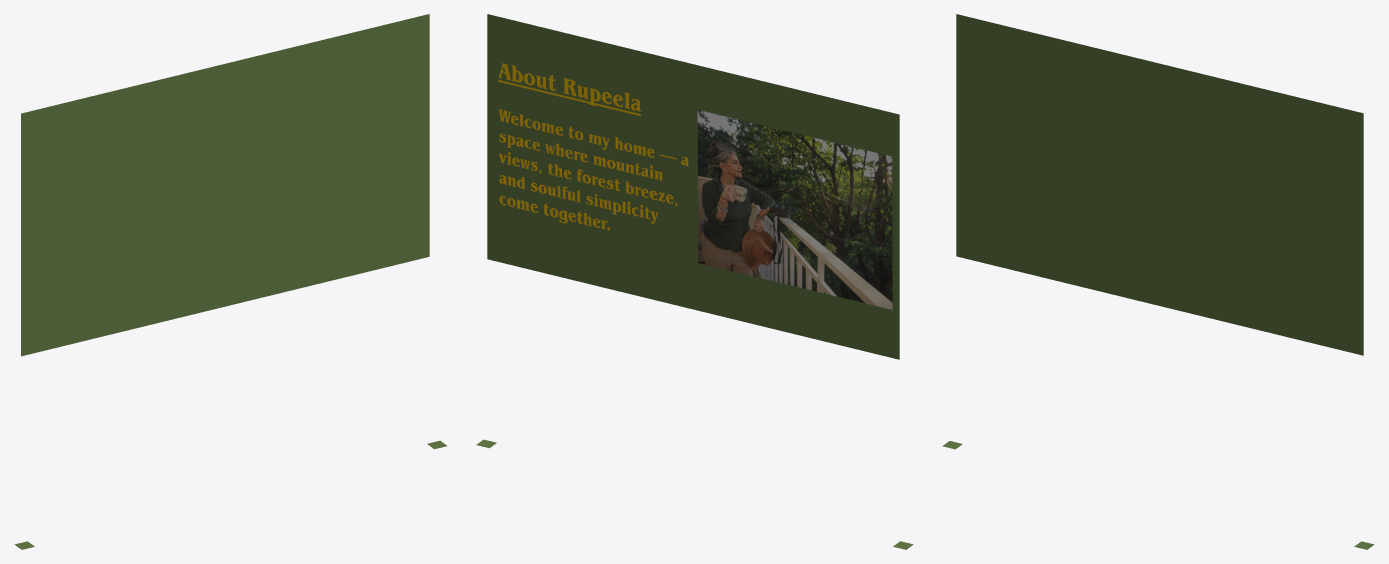
The model's file is slide1.gltf.
3 views of the same model, side by side, from view 1: azimuth 30°, elevation 25°; view 2: azimuth 150°, elevation 25°; view 3: azimuth 330°, elevation 25° (orthographic).
Parts seen in each view (by area): view 1: slide1; view 2: slide1; view 3: slide1.
Part boxes in pixels (bbox=[...]): slide1: bbox=[14, 14, 446, 549]; slide1: bbox=[476, 14, 913, 549]; slide1: bbox=[942, 14, 1374, 549].
Size of the model in its own units: 2.4 by 2.31 by 0.0731.
1 material, 1 textured.
